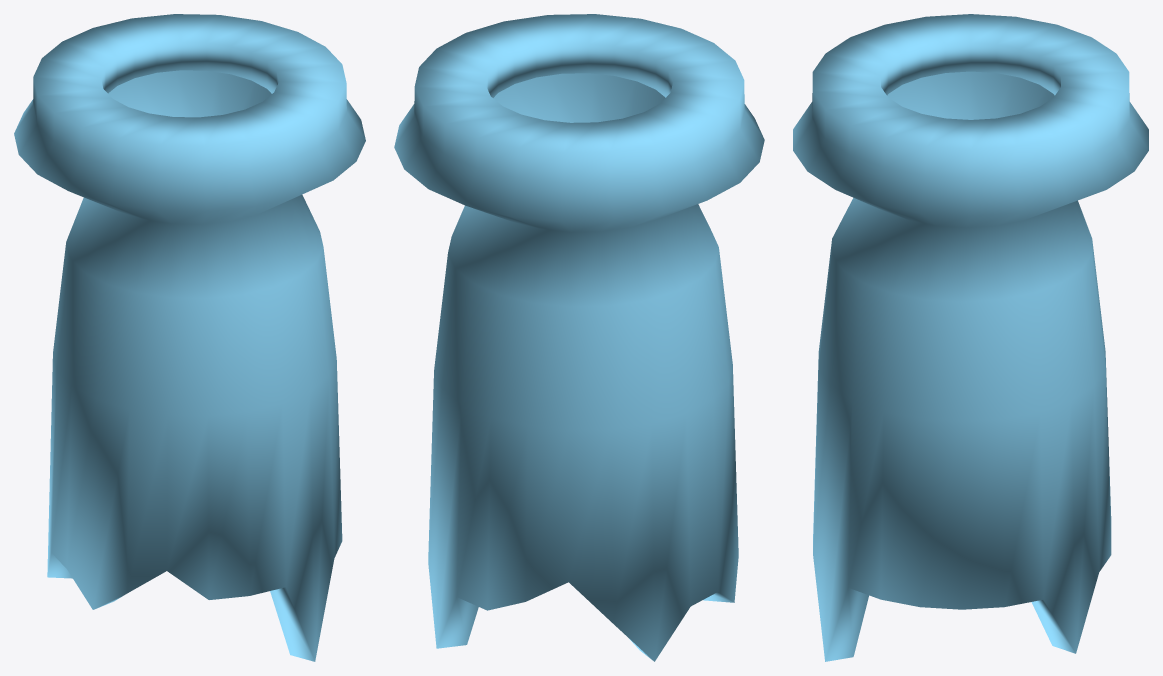
Rendered from BrokenFlaskThinUpper.fbx.
3 views of the same model, side by side, from view 1: azimuth 30°, elevation 25°; view 2: azimuth 150°, elevation 25°; view 3: azimuth 270°, elevation 25° (orthographic). The views are drawn at different scales.
Parts seen in each view (by area): view 1: BrokenFlaskThinUpper; view 2: BrokenFlaskThinUpper; view 3: BrokenFlaskThinUpper.
Boxes of the visible parts, x1=… form: BrokenFlaskThinUpper: x1=14, y1=14, x2=365, y2=661; BrokenFlaskThinUpper: x1=394, y1=14, x2=764, y2=661; BrokenFlaskThinUpper: x1=793, y1=14, x2=1148, y2=661.
Bounding box in the file's own units: 11.64 × 19.8 × 11.52.
